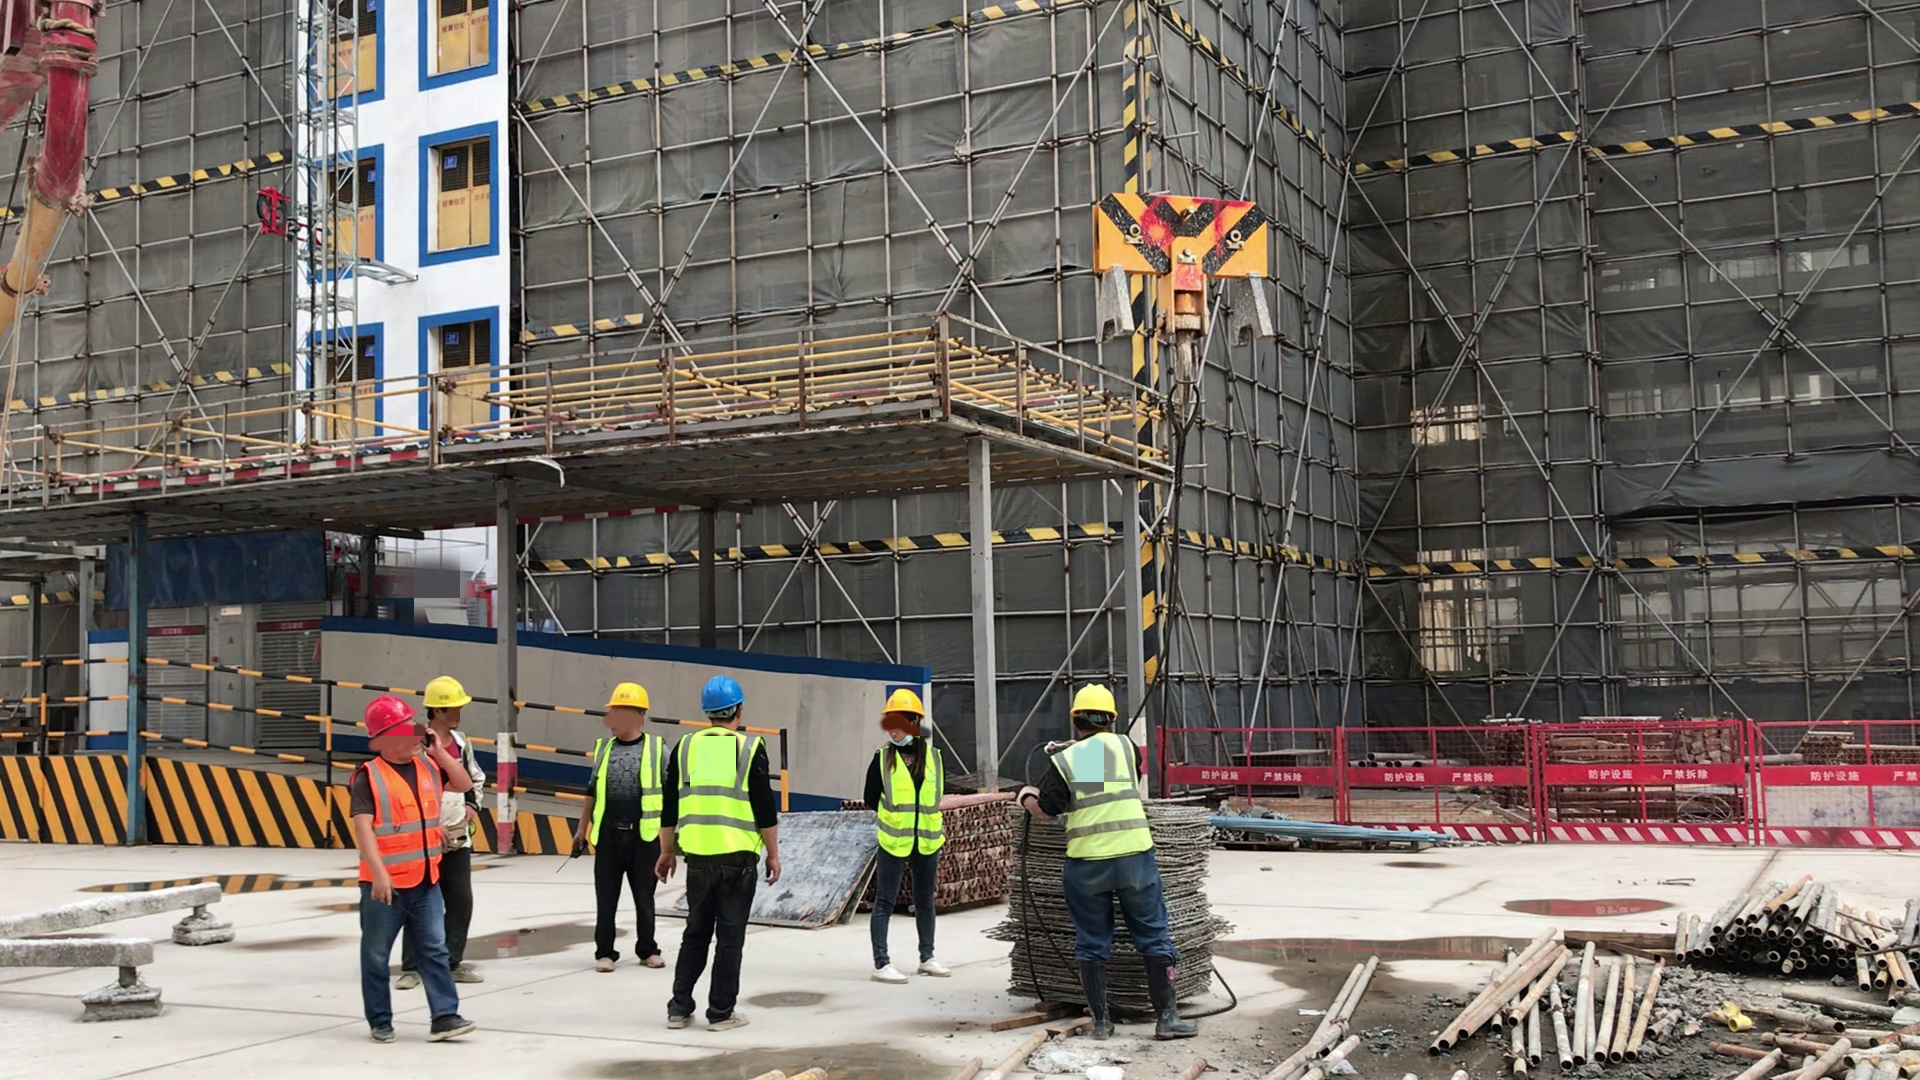fence: (1166, 724, 1920, 848)
helmet: (366, 695, 416, 735), (702, 677, 746, 713), (1069, 685, 1117, 716), (424, 678, 471, 708), (606, 682, 651, 712), (878, 688, 924, 718)
hook: (1092, 191, 1270, 395)
person: (1046, 687, 1198, 1042), (656, 677, 779, 1030), (351, 695, 462, 1038), (863, 692, 955, 982), (579, 683, 666, 973), (417, 678, 482, 991)
scaffold: (942, 793, 1013, 914)
vest: (671, 726, 762, 862), (356, 764, 442, 889), (1059, 739, 1146, 857), (585, 741, 666, 845), (881, 751, 946, 856)
